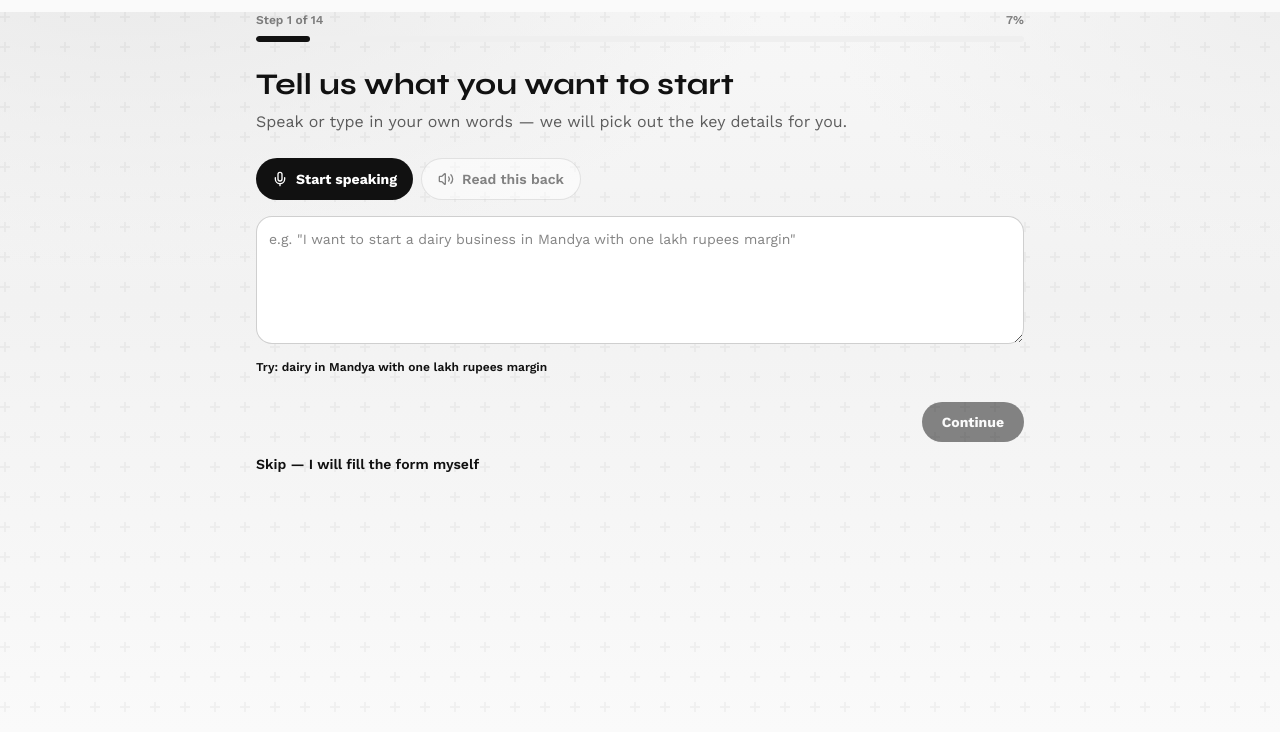
Test: VoicePage — SpeechRecognition unsupported/error handling › maps SpeechRecognitionErrorEvent.error=not-allowed to apply.voice.error.notAllowed
This screenshot has width=1280, height=732.
What coordinates should you click on to do the following:
click the button "Start speaking"
I would click on:
 (335, 179)
Its box is [256,158,413,200].
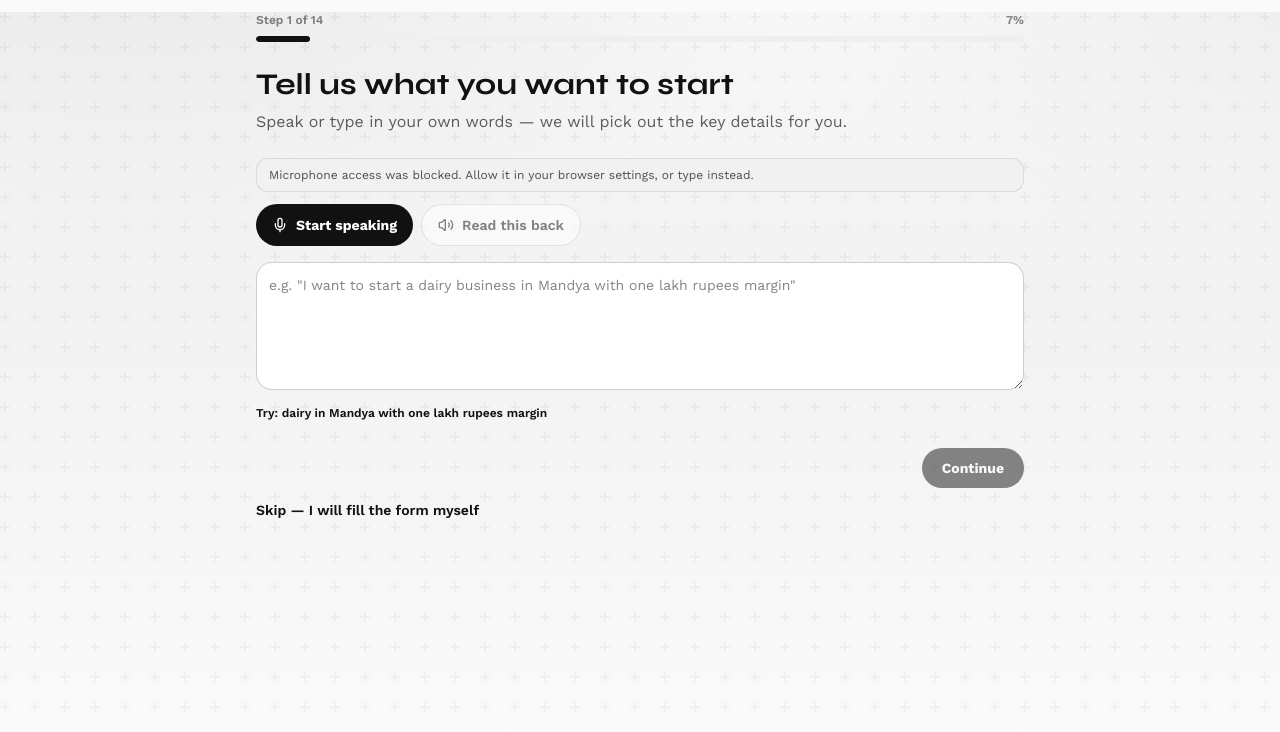
Result: the message shows "Microphone access was blocked. Allow it in your browser settings, or type instead." at [269,168,754,182]
